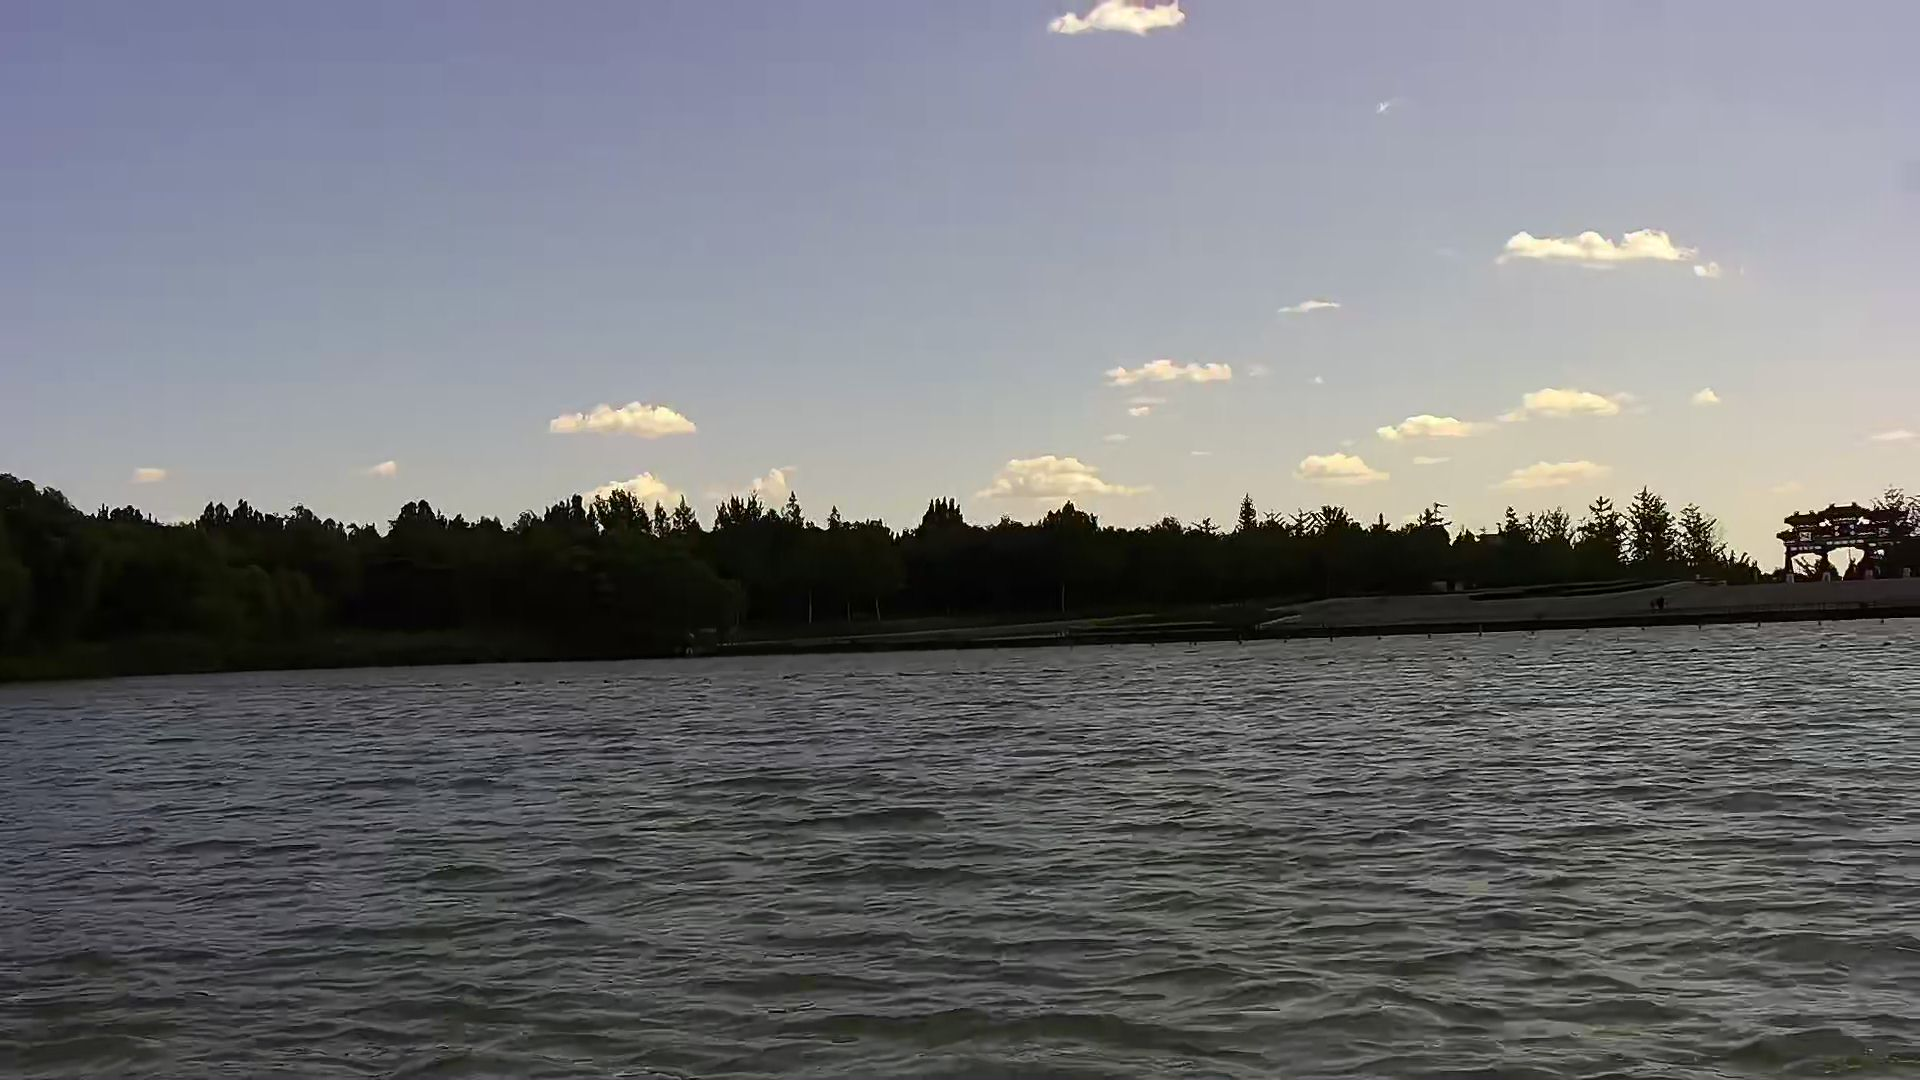harbor: (719, 564, 1920, 661)
